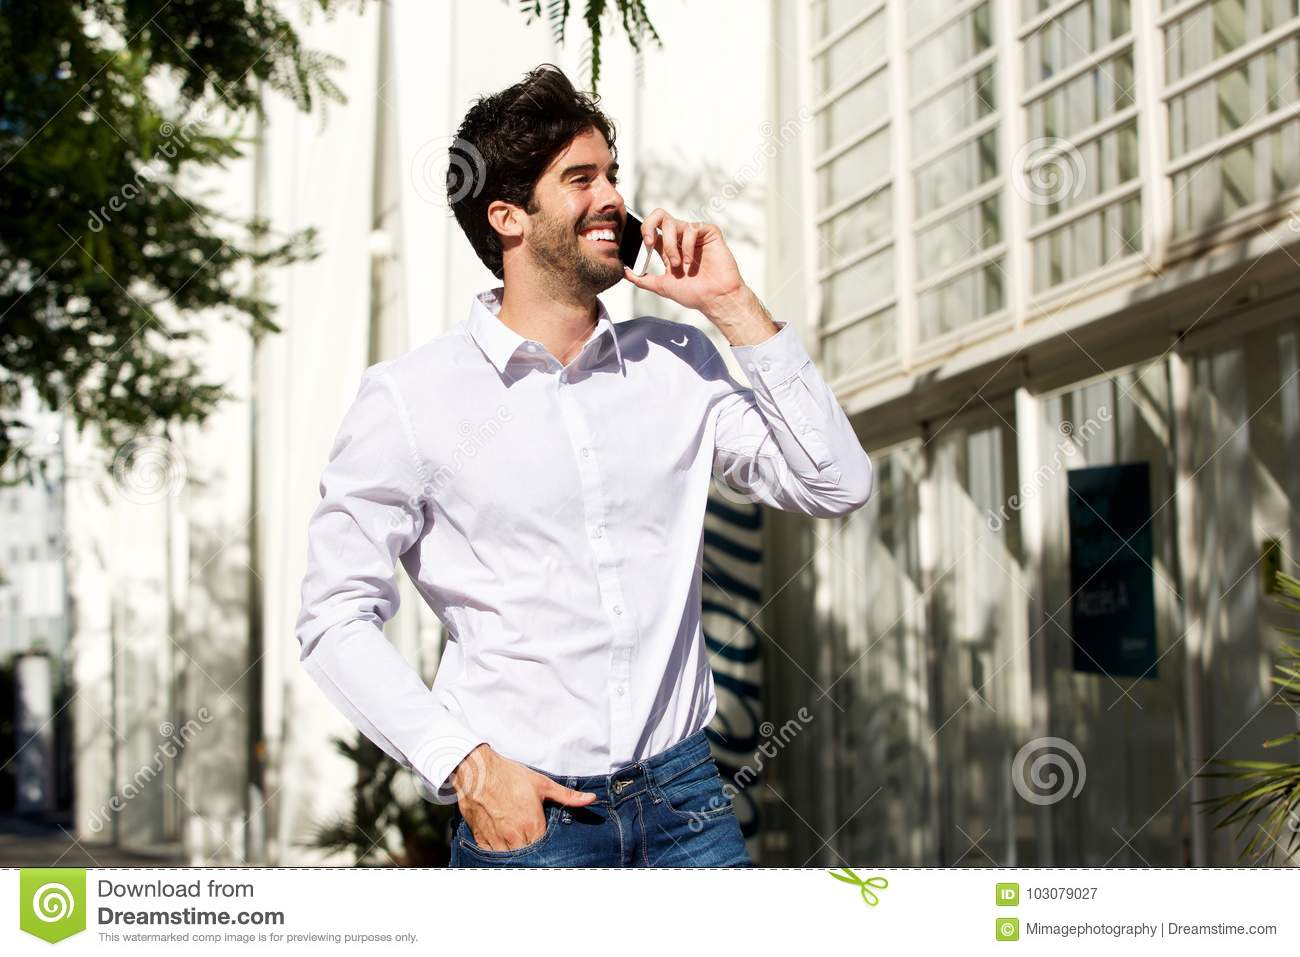phone: (621, 203, 663, 284)
talk: (554, 159, 743, 315)
